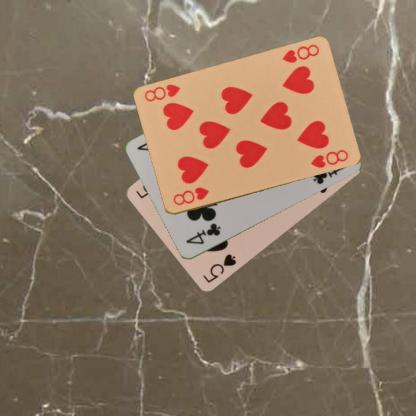4c: (182, 221, 222, 246)
5s: (200, 251, 237, 285)
8h: (170, 184, 210, 207), (280, 42, 320, 64)
